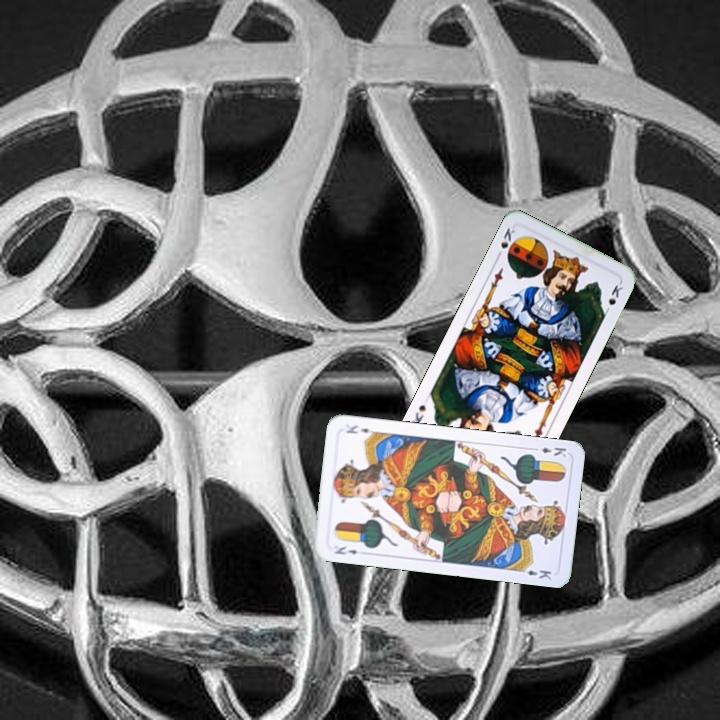EK: (528, 443, 569, 459), (331, 542, 360, 557)
SK: (492, 224, 518, 261)
